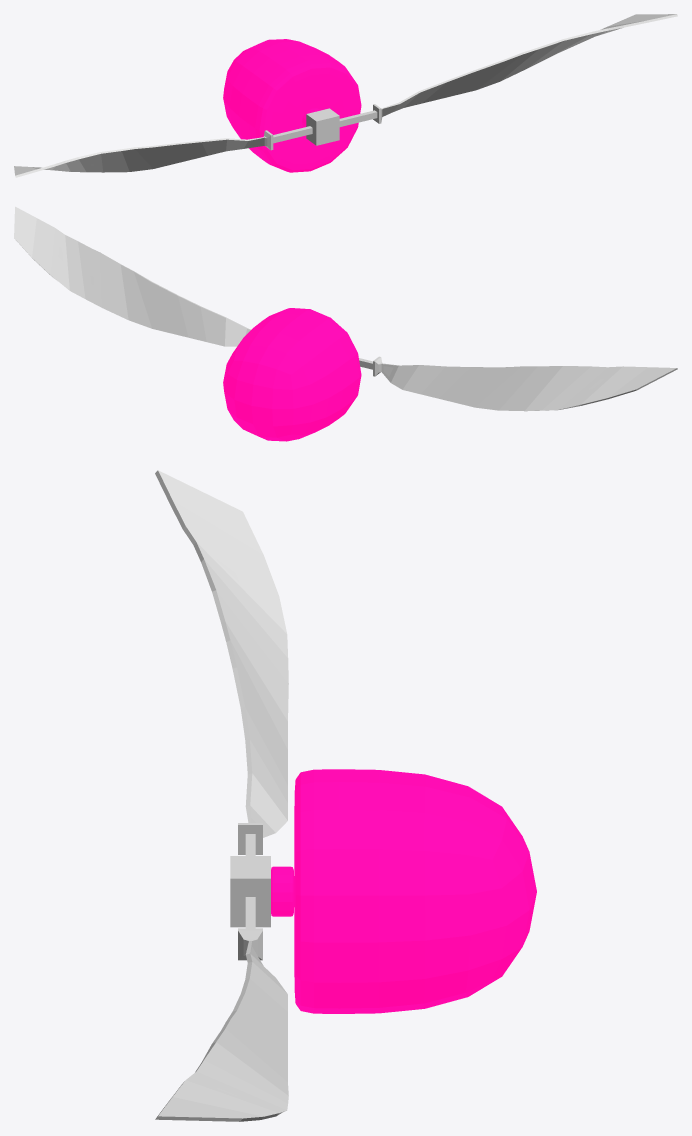
Rendered from Fan Enemy.fbx.
3 views of the same model, one above another, from view 1: azimuth 30°, elevation 25°; view 2: azimuth 150°, elevation 25°; view 3: azimuth 270°, elevation 25° (orthographic). The views are drawn at different scales.
Visible parts, largest first — view 1: Cube, Cube.001; view 2: Cube.001, Cube; view 3: Cube, Cube.001.
Boxes of the visible parts, left/top/right/bottom form: Cube: left=223, top=39, right=361, bottom=172; Cube.001: left=14, top=14, right=677, bottom=177; Cube.001: left=14, top=206, right=677, bottom=411; Cube: left=223, top=308, right=361, bottom=441; Cube: left=271, top=769, right=536, bottom=1013; Cube.001: left=155, top=470, right=288, bottom=1121.
Size of the model in its own units: 1159 by 183 by 290.
